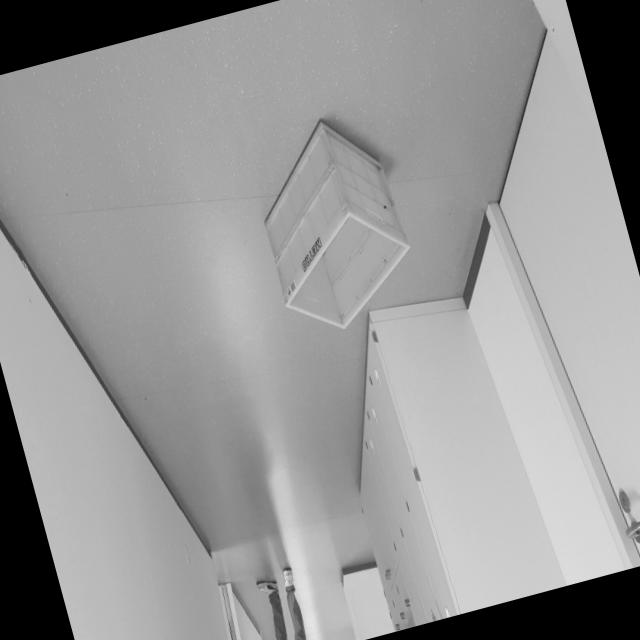box: (237, 100, 441, 366)
